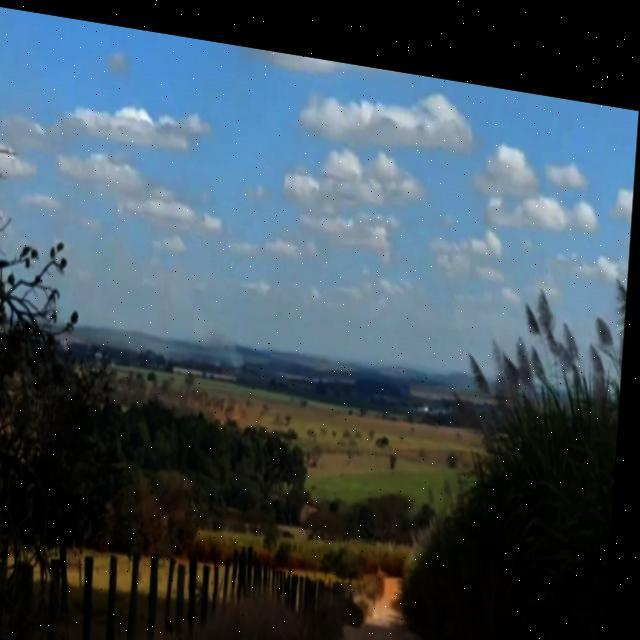Fire: (199, 312, 253, 360)
